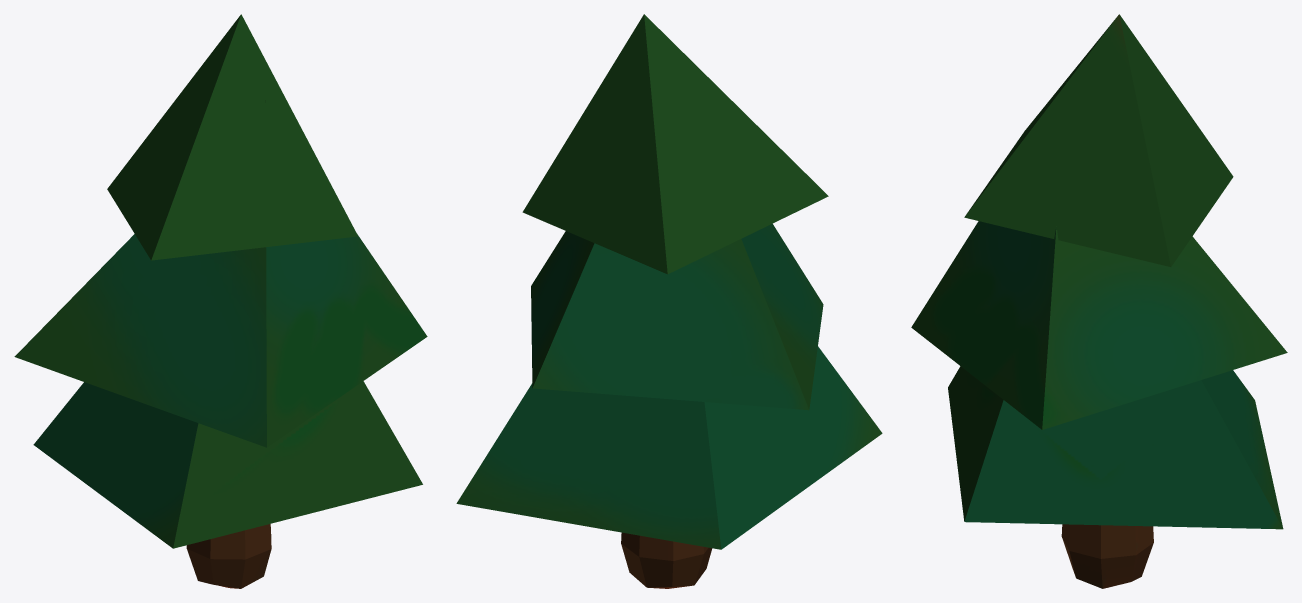
The model's file is tree3.fbx.
3 renders of one model, left to right at view 1: azimuth 30°, elevation 25°; view 2: azimuth 150°, elevation 25°; view 3: azimuth 270°, elevation 25°, orthographic. The views are drawn at different scales.
Visible parts, largest first — view 1: Cube; view 2: Cube; view 3: Cube.
Boxes of the visible parts, bbox=[...] form: Cube: bbox=[14, 14, 427, 588]; Cube: bbox=[456, 14, 882, 588]; Cube: bbox=[911, 14, 1287, 588].
Size of the model in its own units: 392 by 616 by 361.
1 material, 1 textured.
